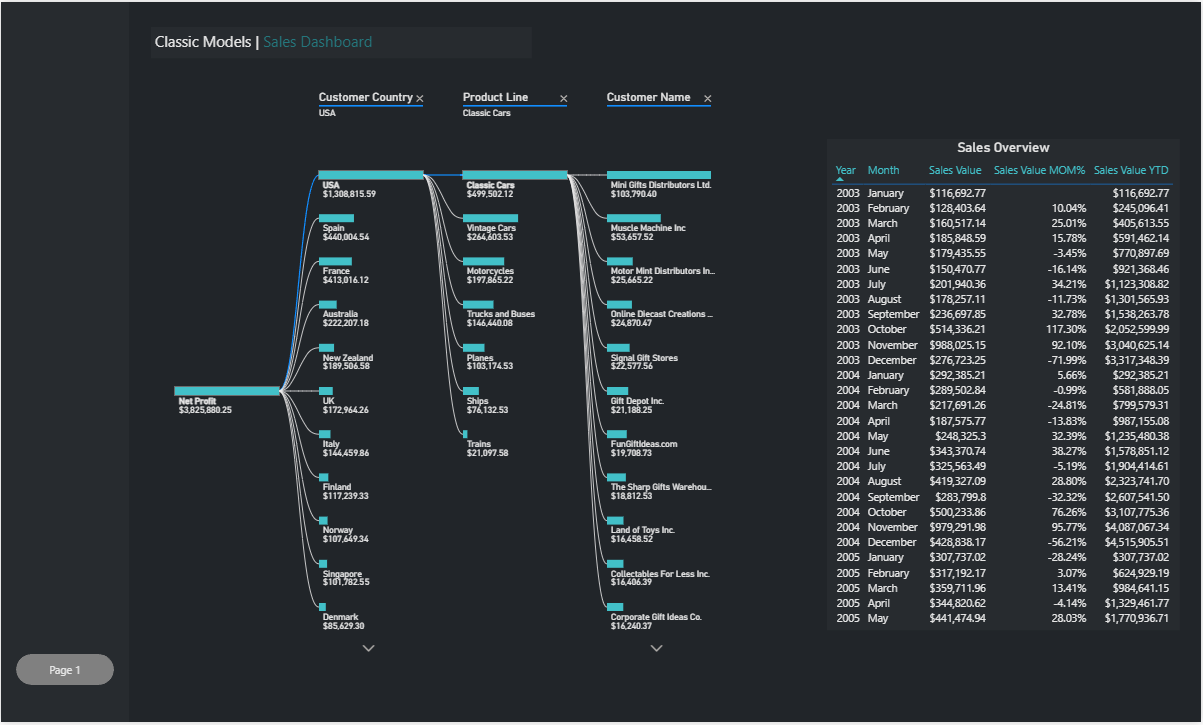

This screenshot's page, from the dashboard's own definition file:
{"tool":"powerbi","page":{"name":"Sales Overview - Page 2","canvas":[1500,900],"ordinal":1},"visuals":[{"type":"decompositionTreeVisual","fields":{"Analyze":["sales_data_for_power_bi.Net Profit"],"ExplainBy":["sales_data_for_power_bi.customer_country","sales_data_for_power_bi.productLine","sales_data_for_power_bi.customerName"]},"box":[187.5,93.8,762.5,760],"z":1000},{"type":"tableEx","title":"Sales Overview","fields":{"Values":["sales_data_for_power_bi.orderDate.Variation.Date Hierarchy.Year","sales_data_for_power_bi.orderDate.Variation.Date Hierarchy.Month","Sum(sales_data_for_power_bi.sales_value)","Table.Sum of sales_value MoM%","Table.Sum of sales_value YTD"]},"box":[1032.5,171.2,441.2,613.8],"z":2000},{"type":"shape","box":[0,0,160,900],"z":3000},{"type":"textbox","box":[187.5,31.2,476.2,38.8],"z":4000},{"type":"actionButton","box":[18.8,815,122.5,38.8],"z":5000}]}

Visuals, with their boxes on the page's 1500x900 design canvas (x1, y1, x2, y2). These are canvas units, not pixel positions in the 1203x725 screenshot, which may show the page scaled, cropped or inside an application window:
decompositionTreeVisual - sales_data_for_power_bi.Net Profit x sales_data_for_power_bi.customer_country: Rect(188, 94, 950, 854)
"Sales Overview" tableEx: Rect(1032, 171, 1474, 785)
shape: Rect(0, 0, 160, 900)
textbox: Rect(188, 31, 664, 70)
actionButton: Rect(19, 815, 141, 854)
